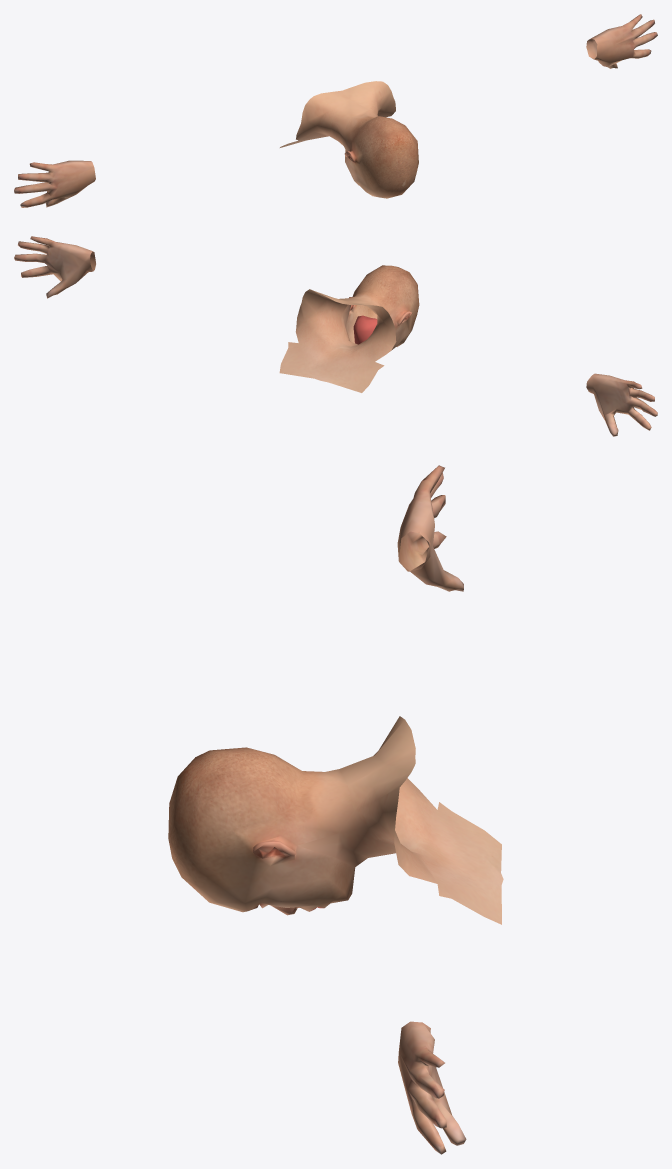
The model's file is body.obj.
The picture shows the model from 3 angles, top to bottom: view 1: azimuth 30°, elevation 25°; view 2: azimuth 150°, elevation 25°; view 3: azimuth 270°, elevation 25°; orthographic projection. The views are drawn at different scales.
Parts seen in each view (by area): view 1: body; view 2: body; view 3: body.
Boxes of the visible parts, x1,y1,x2,y2 form: body: (14,14,657,207); body: (14,236,657,436); body: (168,465,503,1154).
Bounding box in the file's own units: 1.81 × 0.2209 × 0.4086.
1 material, 1 textured.
